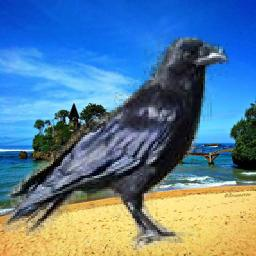Crow: (3, 29, 230, 251)
